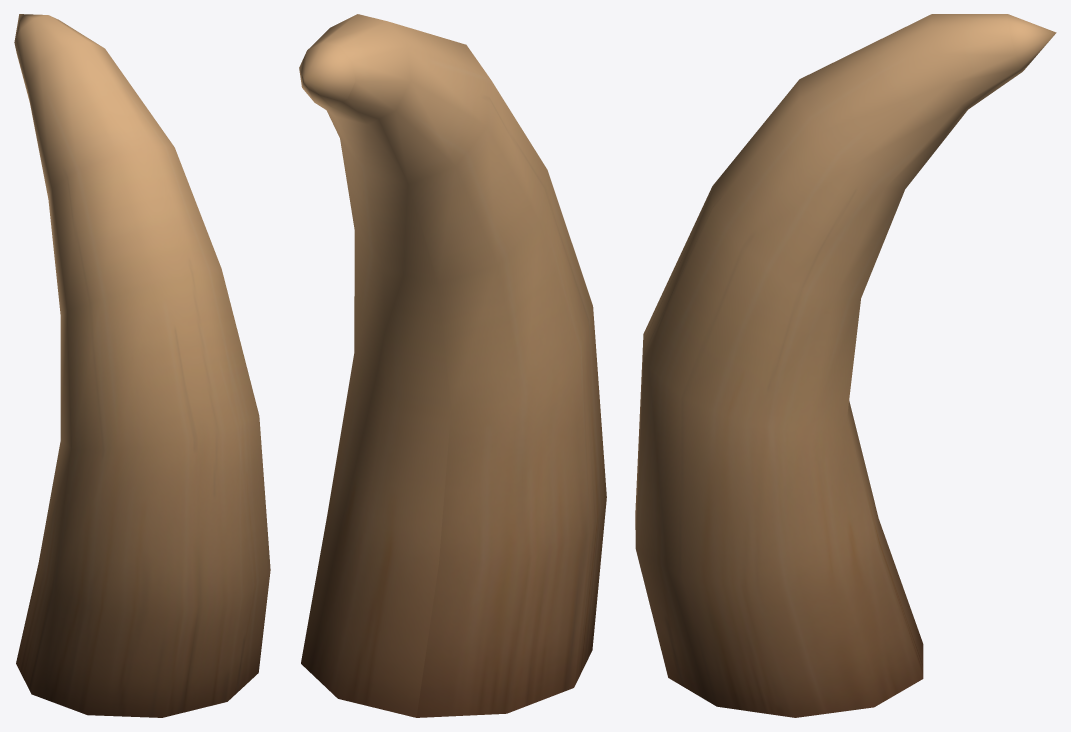
The model's file is Horn.fbx.
3 views of the same model, side by side, from view 1: azimuth 30°, elevation 25°; view 2: azimuth 150°, elevation 25°; view 3: azimuth 270°, elevation 25° (orthographic). The views are drawn at different scales.
Parts seen in each view (by area): view 1: horn; view 2: horn; view 3: horn.
Part boxes in pixels (x1=…): horn: x1=14, y1=14, x2=270, y2=717; horn: x1=299, y1=14, x2=606, y2=717; horn: x1=635, y1=14, x2=1056, y2=717.
Size of the model in its own units: 1 by 2.62 by 1.55.
